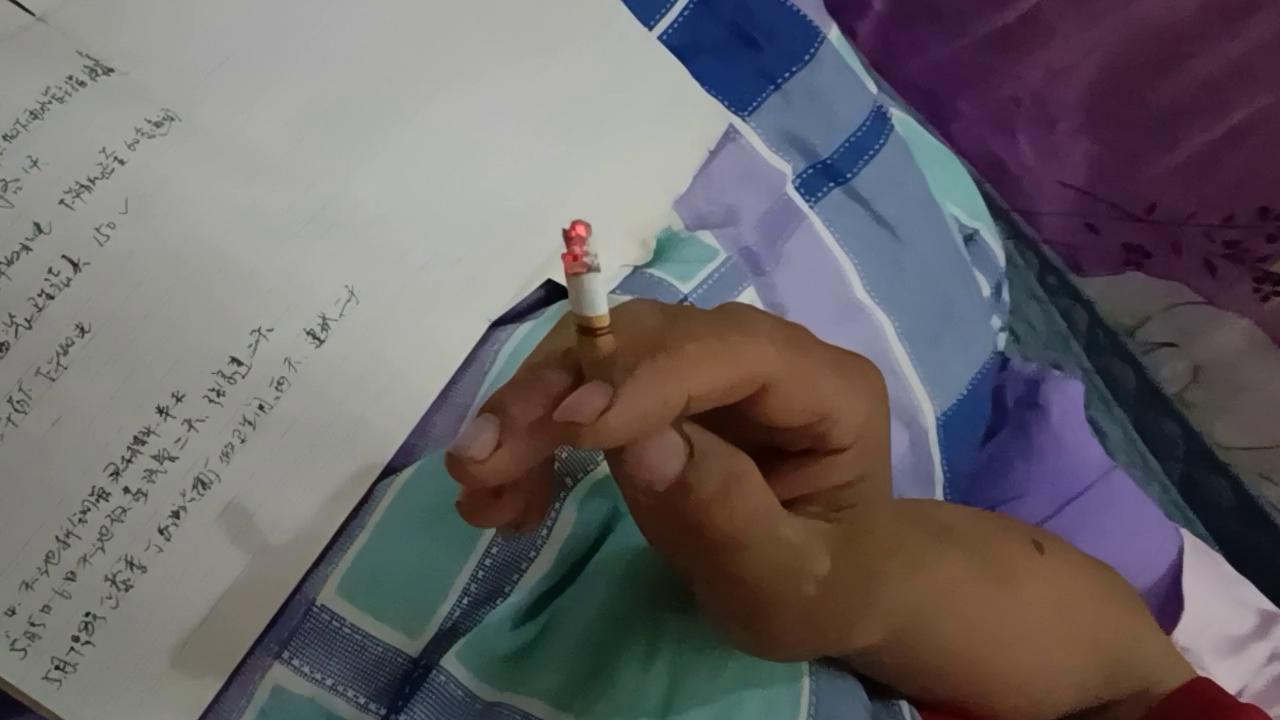smoke: (562, 217, 632, 427)
